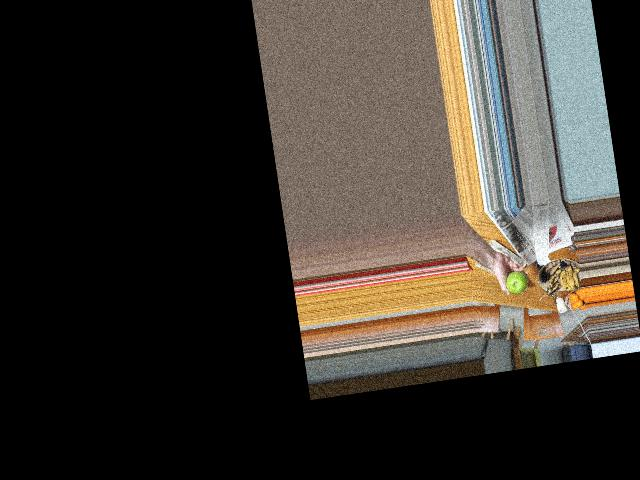apple: (502, 269, 527, 296)
